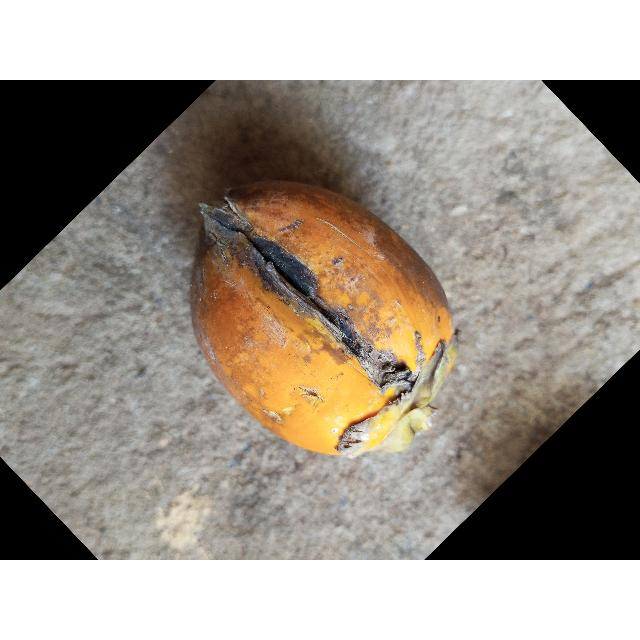damaged: (189, 181, 457, 459)
